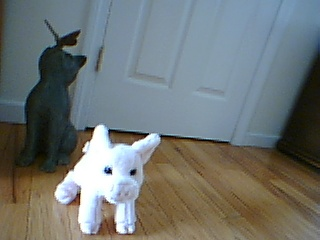piggy: (53, 123, 162, 236)
